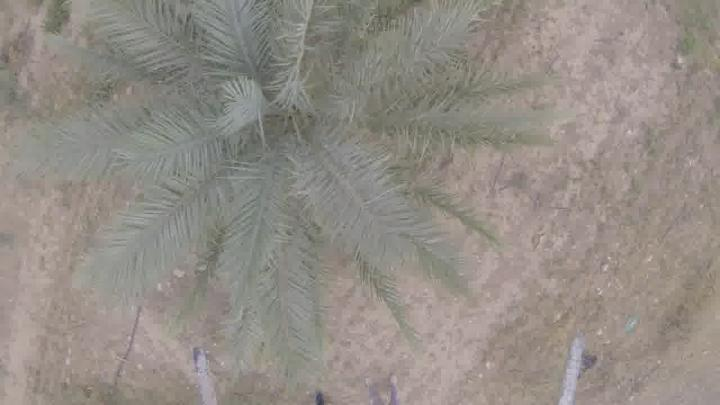Date-Palm-Crown: (149, 0, 439, 260)
